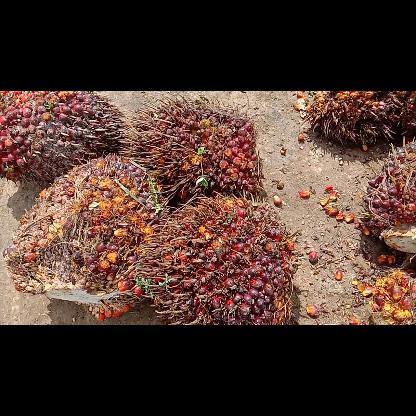TBS masak: (3, 153, 166, 321), (138, 191, 294, 324), (119, 93, 259, 196), (0, 91, 120, 183)
